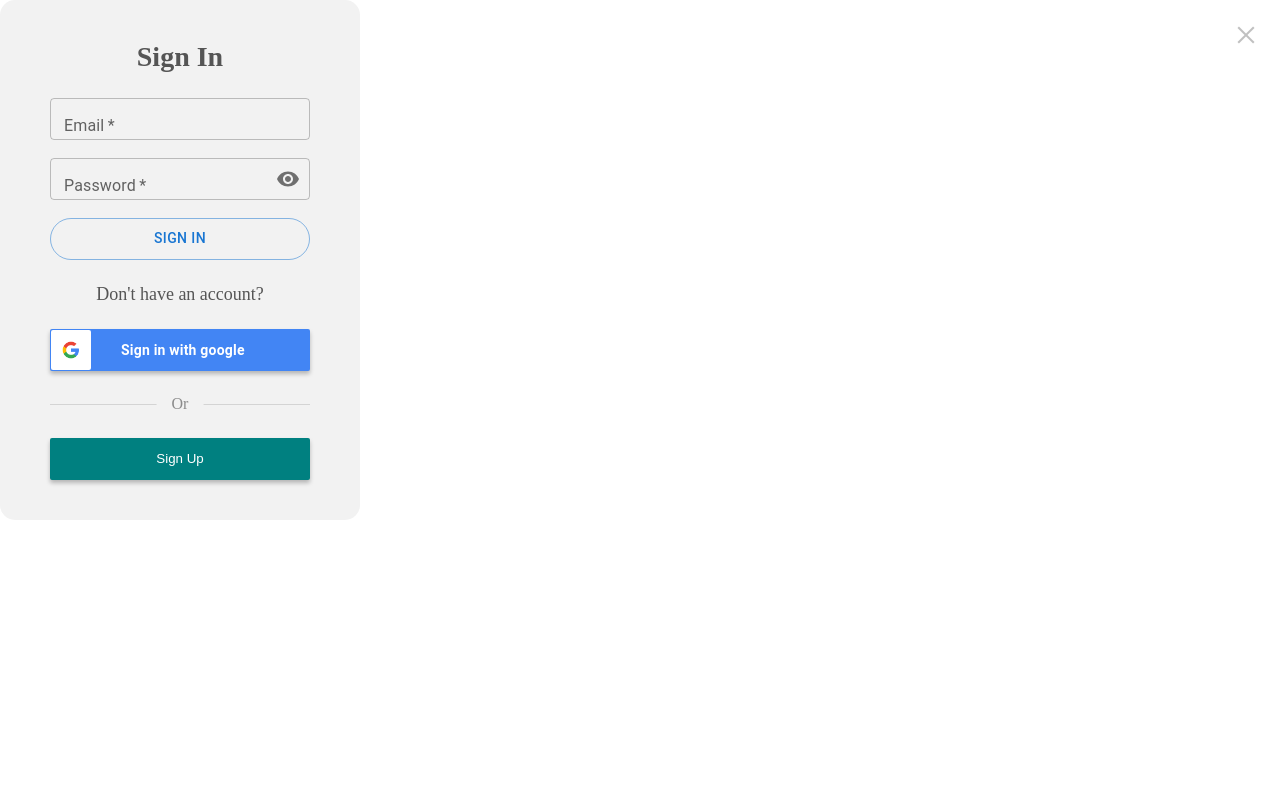
Test case: Form component › shows error message if email is invalid
Type "invalid-email" into the field labelled "Email *" at (180, 119), box [50,91,310,147]
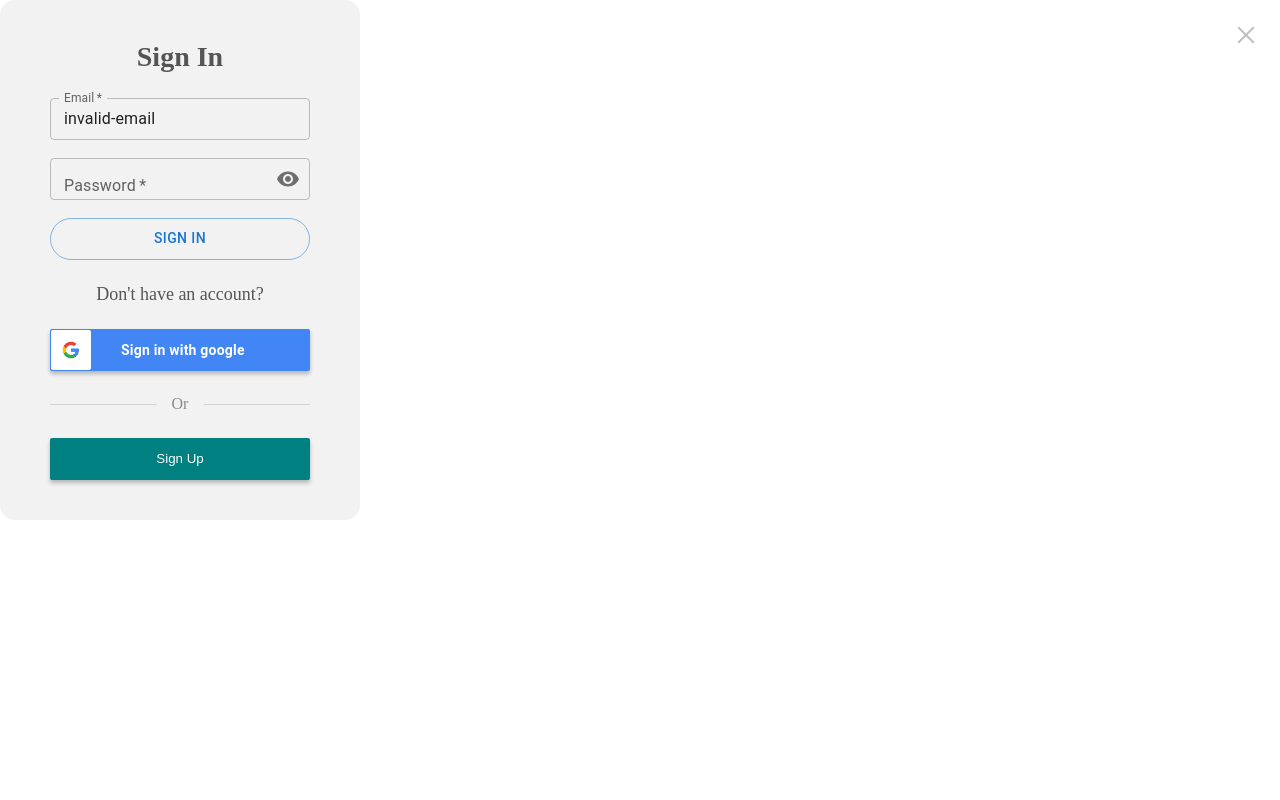
Type "password123" into the password field labelled "Password *" at (155, 179), box [50,151,260,207]
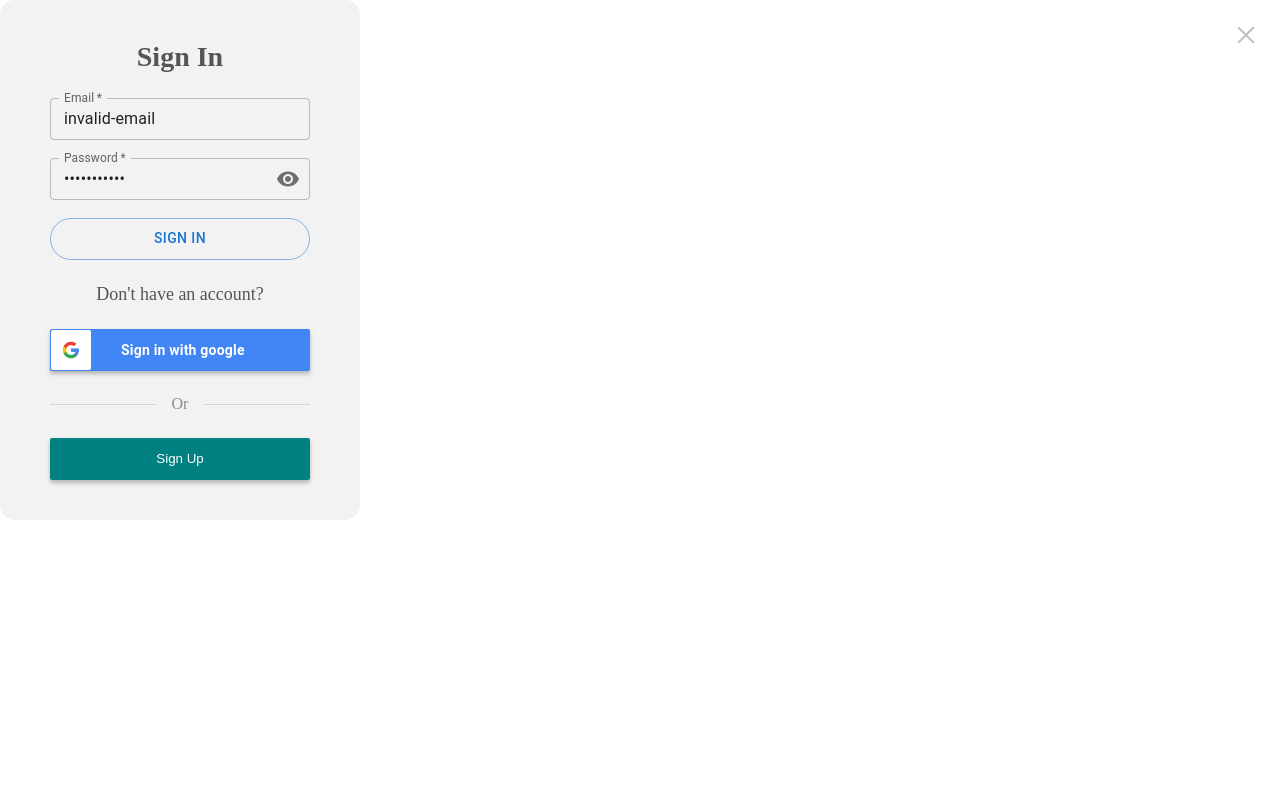
Click the button "Sign In" at (180, 239), box [50,218,310,260]
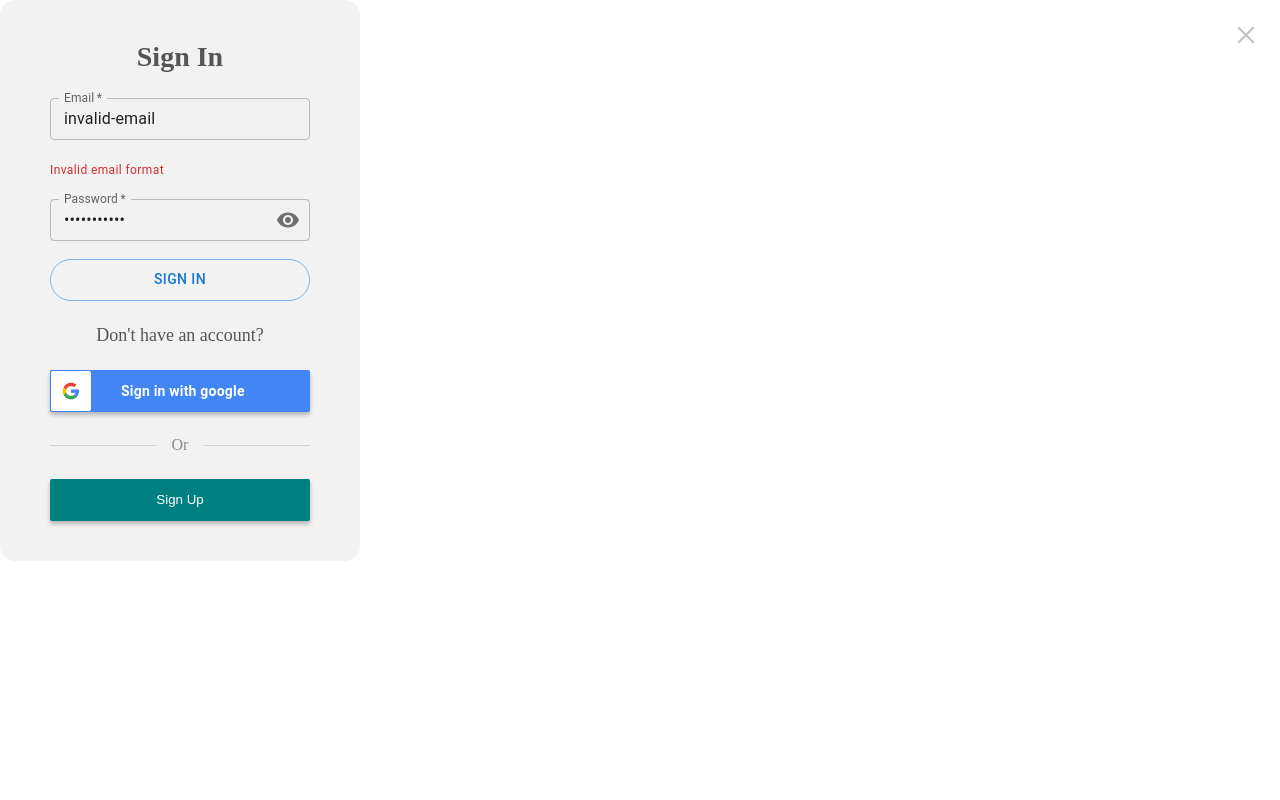
expect the text "Invalid email format" is shown: met, box [50,163,164,177]
